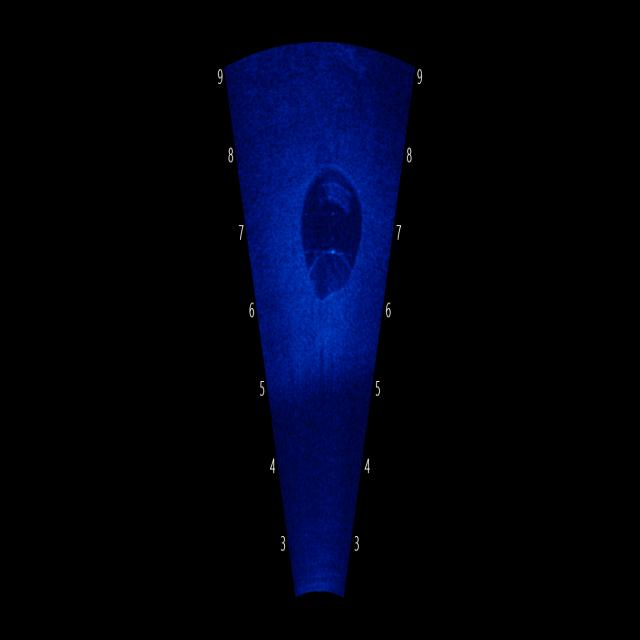circle: (295, 160, 364, 325)
